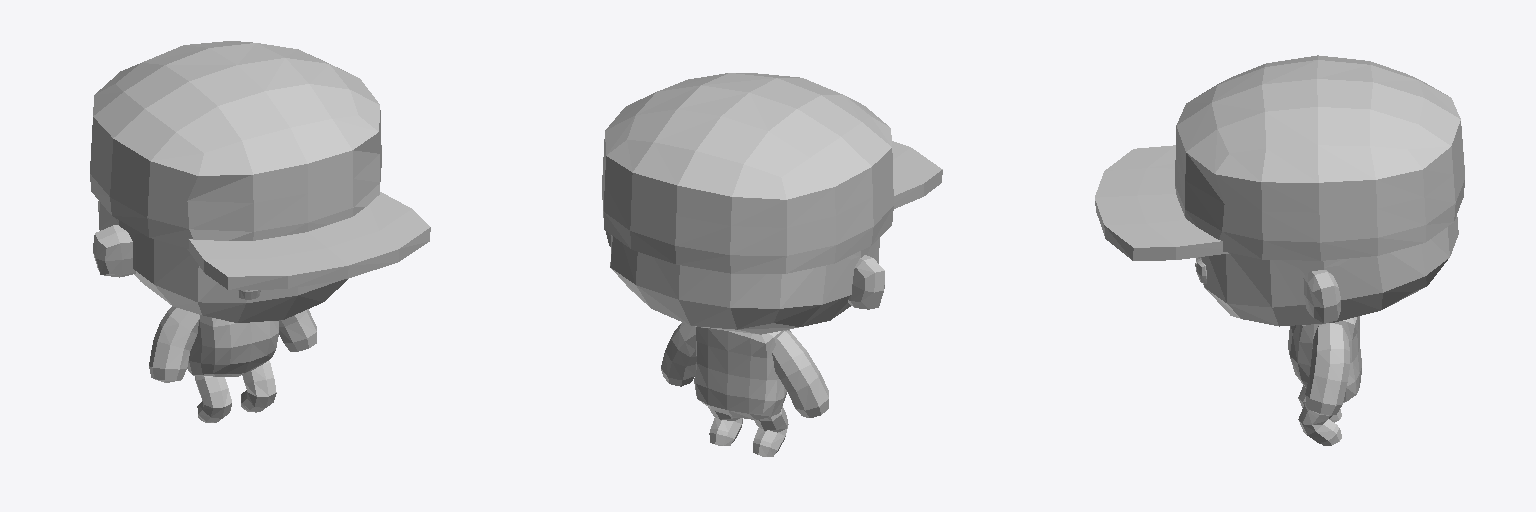
File: jump_0023.obj
3 views of the same model, side by side, from view 1: azimuth 30°, elevation 25°; view 2: azimuth 150°, elevation 25°; view 3: azimuth 270°, elevation 25° (orthographic).
Parts seen in each view (by area): view 1: Object_41, Object_42, Object_44, Object_36; view 2: Object_41, Object_36, Object_44, Object_42; view 3: Object_41, Object_36, Object_42, Object_44.
Part boxes in pixels (left/top/right/bottom): Object_41: left=90, top=41, right=381, bottom=248; Object_42: left=187, top=132, right=430, bottom=289; Object_44: left=149, top=306, right=316, bottom=422; Object_36: left=93, top=201, right=347, bottom=322; Object_41: left=602, top=73, right=893, bottom=273; Object_36: left=606, top=231, right=884, bottom=334; Object_44: left=661, top=322, right=828, bottom=456; Object_42: left=892, top=141, right=942, bottom=208; Object_41: left=1176, top=55, right=1464, bottom=260; Object_36: left=1196, top=216, right=1458, bottom=326; Object_42: left=1095, top=126, right=1228, bottom=260; Object_44: left=1288, top=316, right=1361, bottom=445.
Size of the model in its own units: 0.9691 by 1.19 by 1.13.